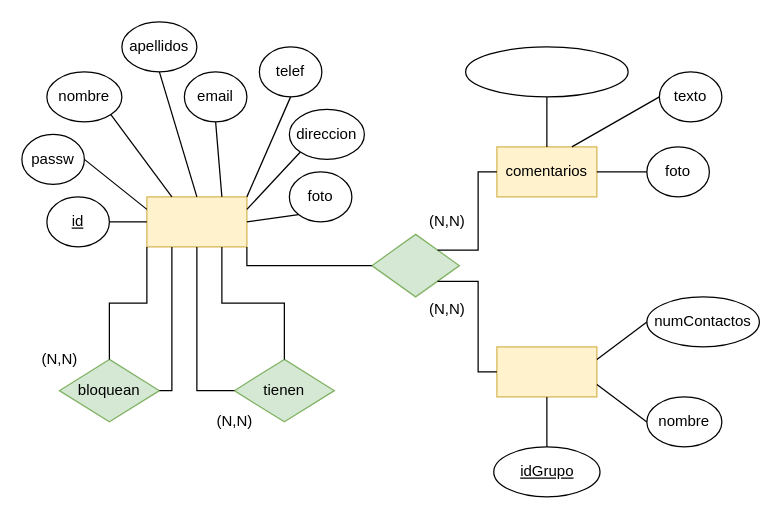
Image size: 781x519. Some labels were removed from this diagram. The shapes that lost their labels are listed below. From the top down, each one's box as (x1, y1, x2, y2) in pixels, then its label:
(464, 46, 628, 97): codigoComentario
(146, 196, 247, 247): usuarios
(371, 233, 459, 297): ven
(496, 346, 597, 397): grupos
